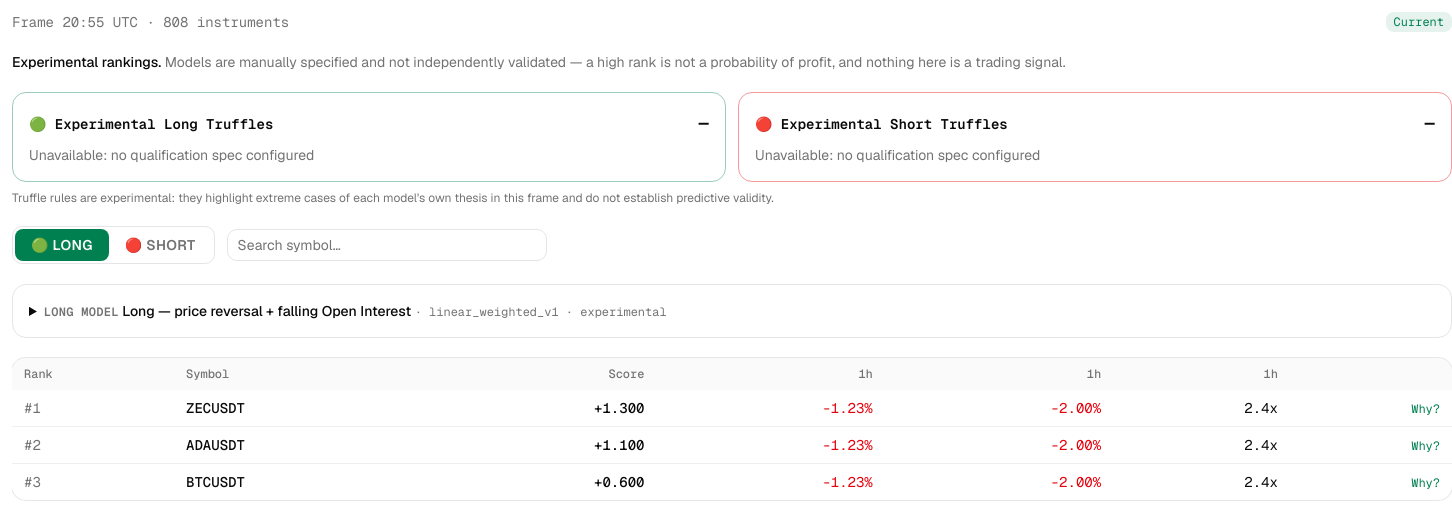
Test case: RankingBoard › switches between Long and Short rankings of the same frame
The width and height of the screenshot is (1452, 518).
Click the button "🔴 SHORT" at (160, 245), box [109,229,212,261]
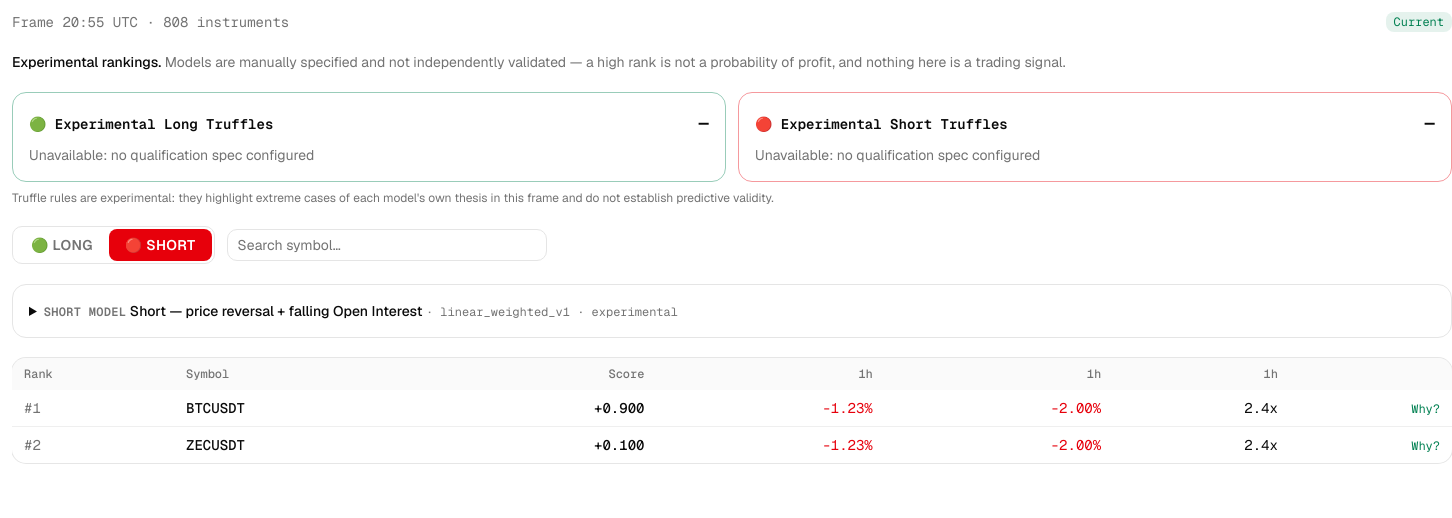
expect the text "Short — price reversal + falling Open Interest" is shown: met, box [130,302,422,320]
